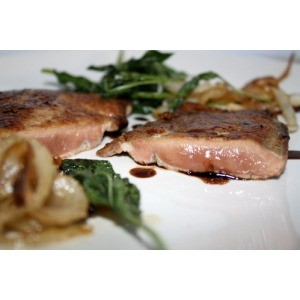liver_brain food: (142, 105, 286, 173), (9, 86, 117, 136)
